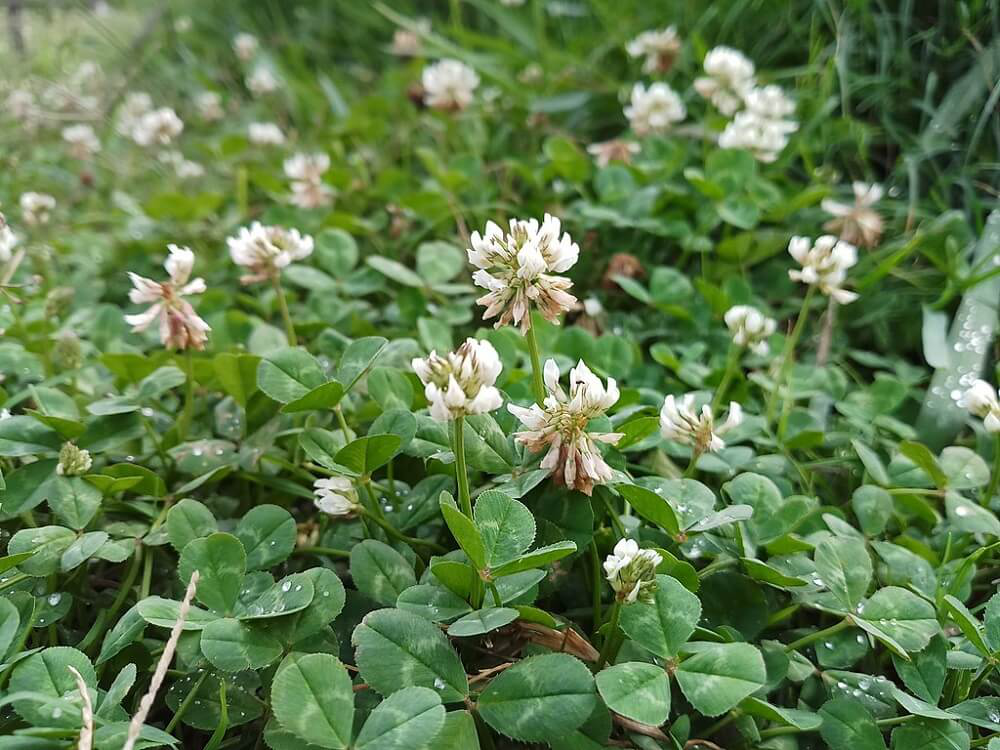clover: (9, 20, 991, 742)
